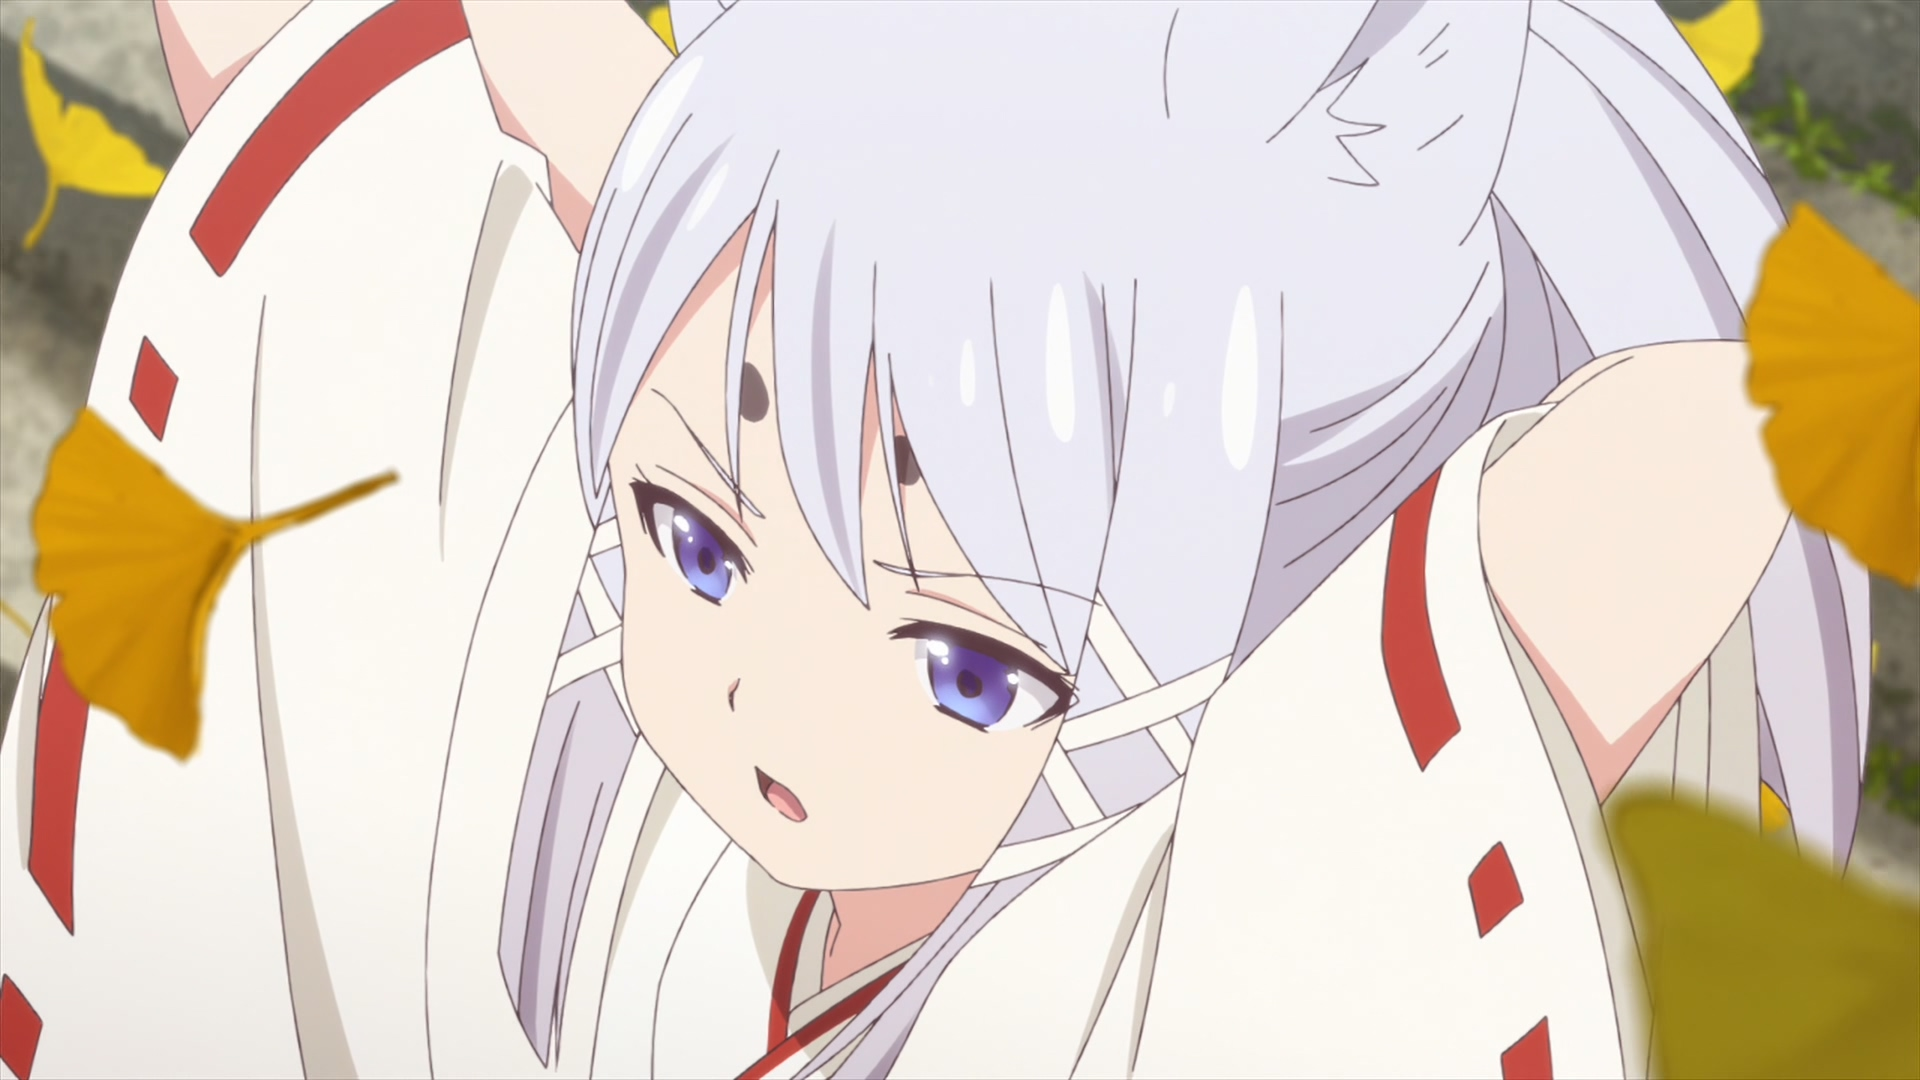柊: (1, 1, 1870, 1080)
